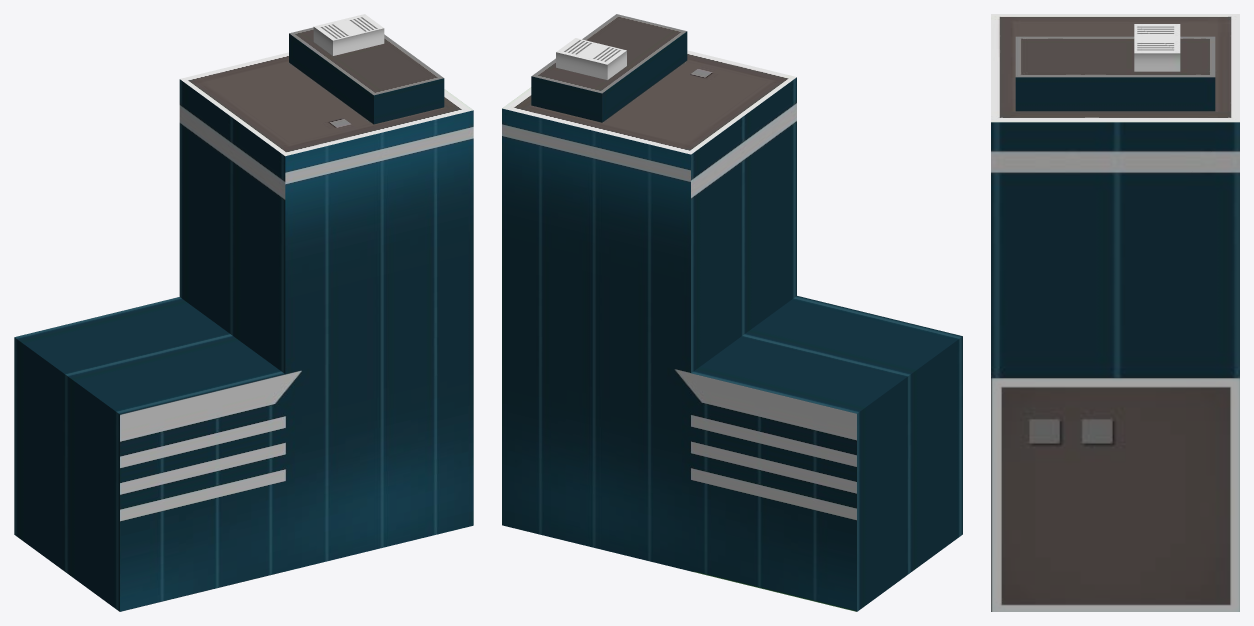
Rendered from House_28.FBX.
The picture shows the model from 3 angles, left to right: view 1: azimuth 30°, elevation 25°; view 2: azimuth 150°, elevation 25°; view 3: azimuth 270°, elevation 25°; orthographic projection. The views are drawn at different scales.
Visible parts, largest first — view 1: House_28; view 2: House_28; view 3: House_28.
Part boxes in pixels (bbox=[...]): House_28: bbox=[14, 14, 473, 611]; House_28: bbox=[502, 14, 962, 611]; House_28: bbox=[991, 14, 1239, 611].
Bounding box in the file's own units: 36.91 × 45.85 × 19.07.
1 material, 1 textured.
